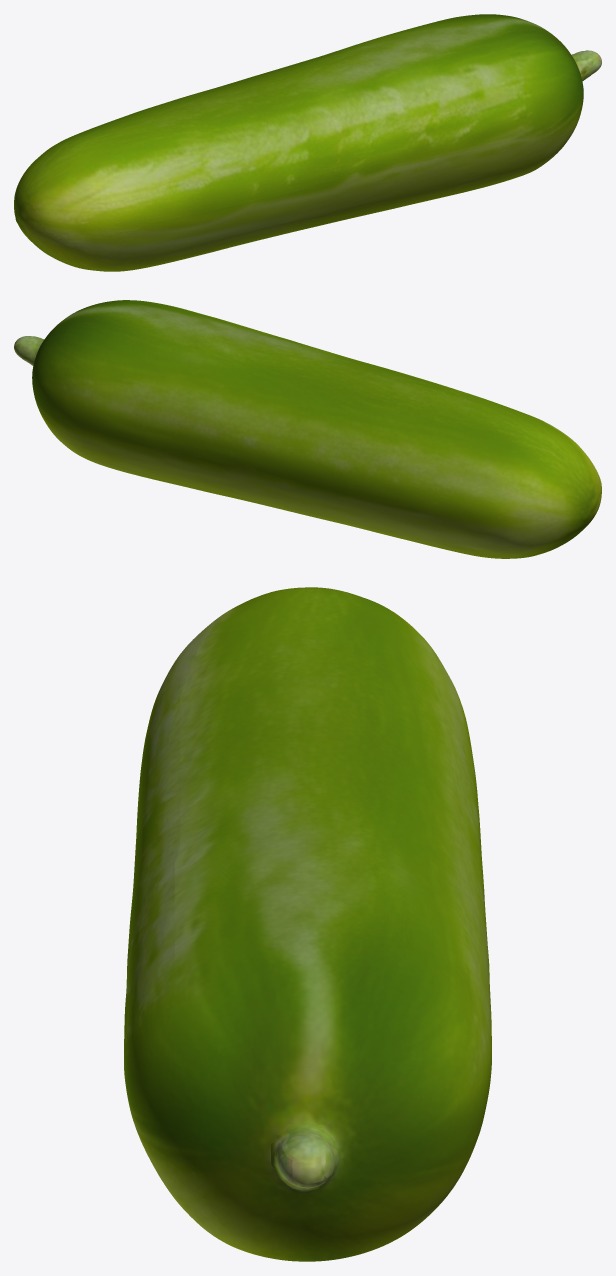
3 views of the same model, one above another, from view 1: azimuth 30°, elevation 25°; view 2: azimuth 150°, elevation 25°; view 3: azimuth 270°, elevation 25° (orthographic). The views are drawn at different scales.
Parts seen in each view (by area): view 1: tmpb9vdohbq.ply; view 2: tmpb9vdohbq.ply; view 3: tmpb9vdohbq.ply.
Boxes of the visible parts, x1,y1,x2,y2 form: tmpb9vdohbq.ply: [14, 14, 601, 271]; tmpb9vdohbq.ply: [14, 300, 601, 558]; tmpb9vdohbq.ply: [124, 587, 491, 1261].
Size of the model in its own units: 196 by 48.54 by 54.05.
1 material, 1 textured.
